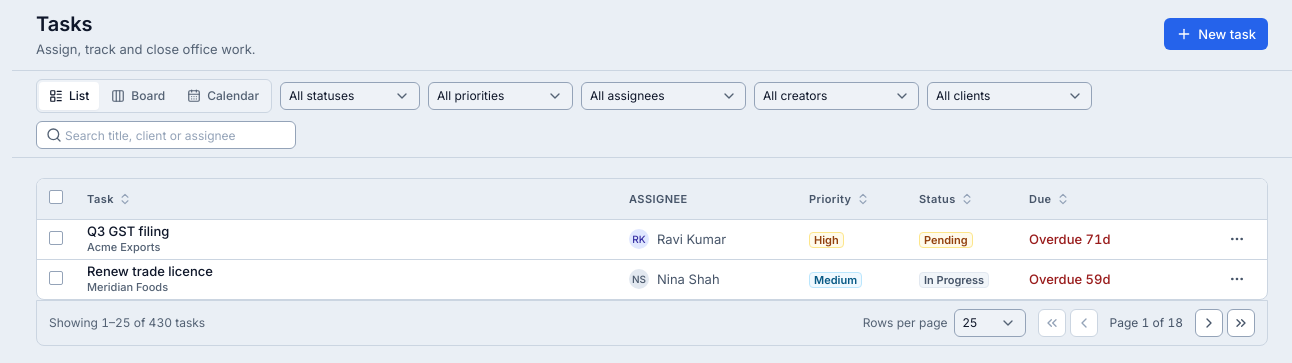
Test: TaskList — the creator filter (H-6) › picking a creator narrows the request and the reported total
Expected: the text "Showing 1–25 of 430 tasks" is shown, [49, 315, 205, 331]
Click the dropdown named "Filter by creator" at {"x": 836, "y": 96}, box [754, 82, 919, 110]
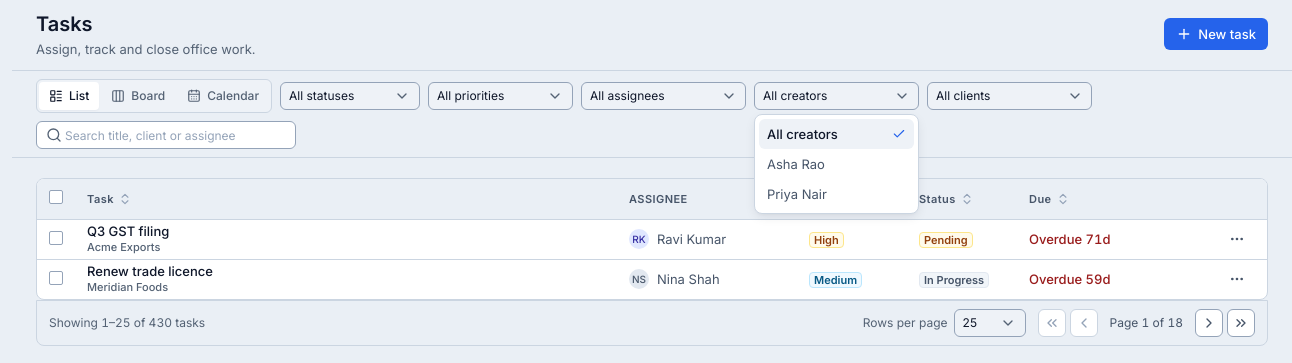
Click the option "Priya Nair" at {"x": 797, "y": 194}, box [767, 186, 827, 202]
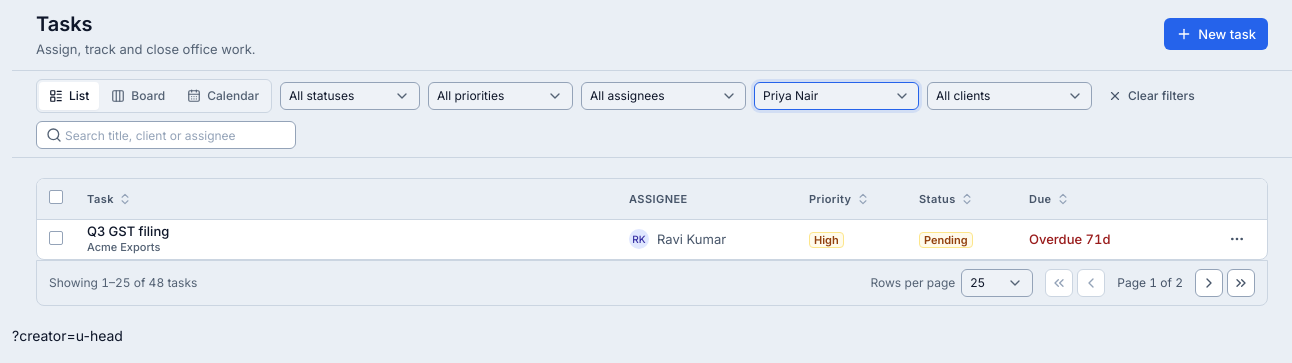
Expected: the text with test id "query-string" shows "creator=u-head", [12, 327, 123, 344]
Expected: the text "Showing 1–25 of 48 tasks" is shown, [49, 275, 197, 291]
Expected: the button "Clear filters" is shown, [1100, 82, 1203, 110]
